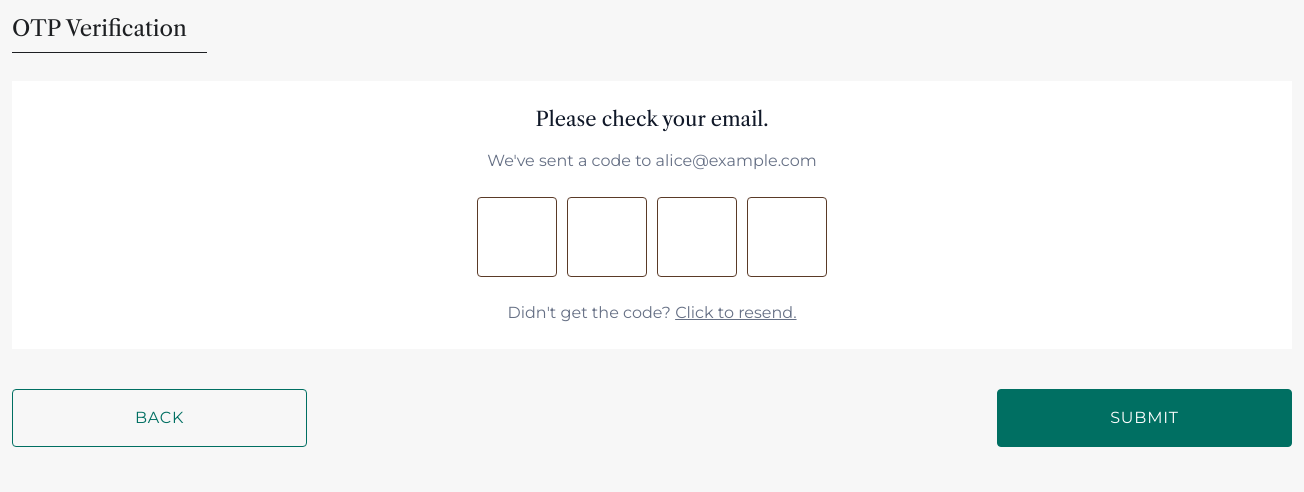
Test: Step3_OtpVerification › displays error message on failed OTP verification
The image size is (1304, 492).
Click the button "Submit".
click(1144, 418)  # box x1=997 y1=389 x2=1292 y2=447
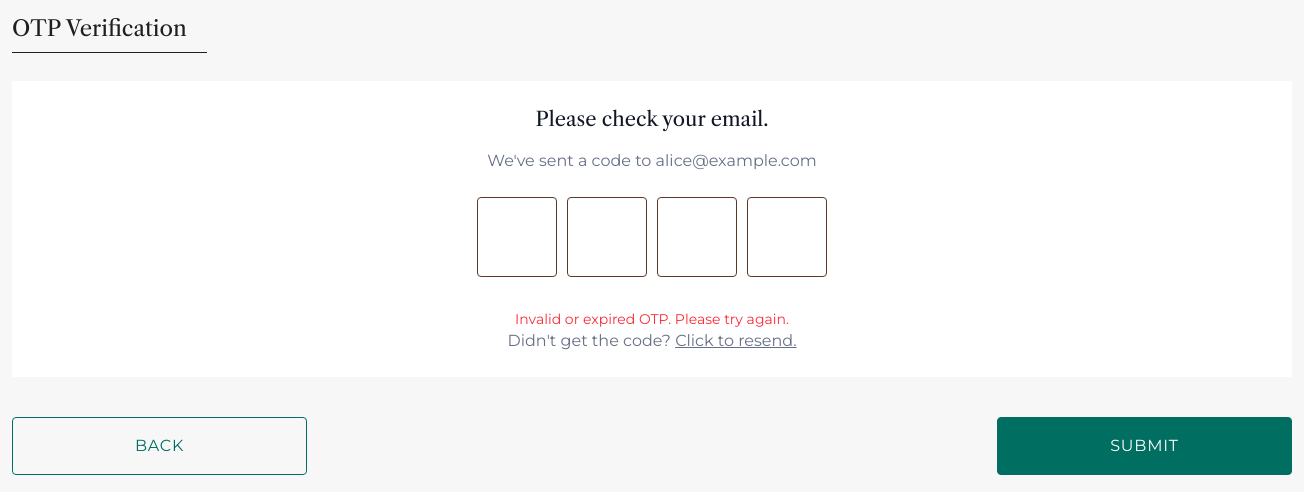
Now the text "Invalid or expired OTP. Please try again." is shown, box x1=515 y1=309 x2=789 y2=329
